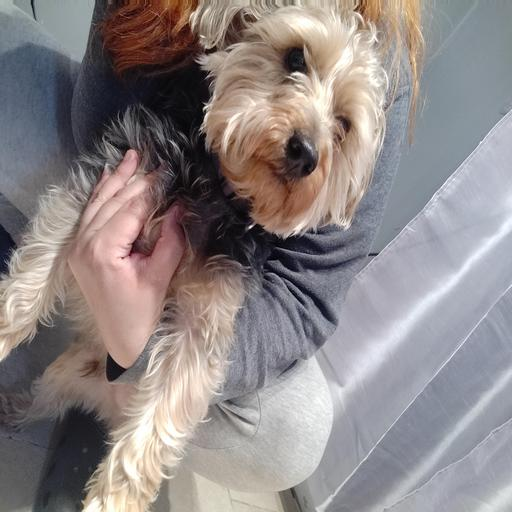dog: (192, 17, 405, 230)
